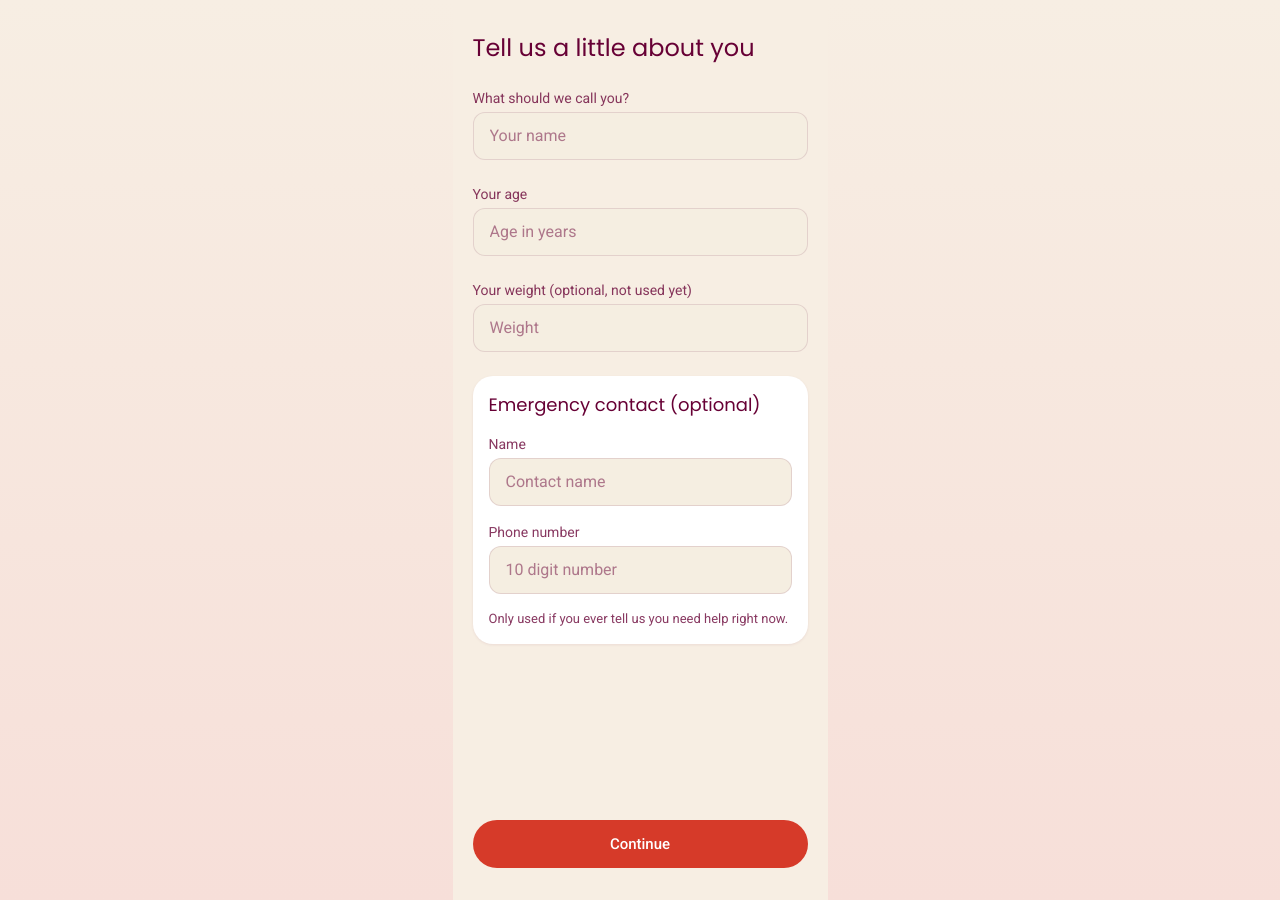
Test: OnboardingForm › starts on About You and requires a name to continue
Click the button "Continue".
click(640, 844)  # box 472,820 -> 808,868
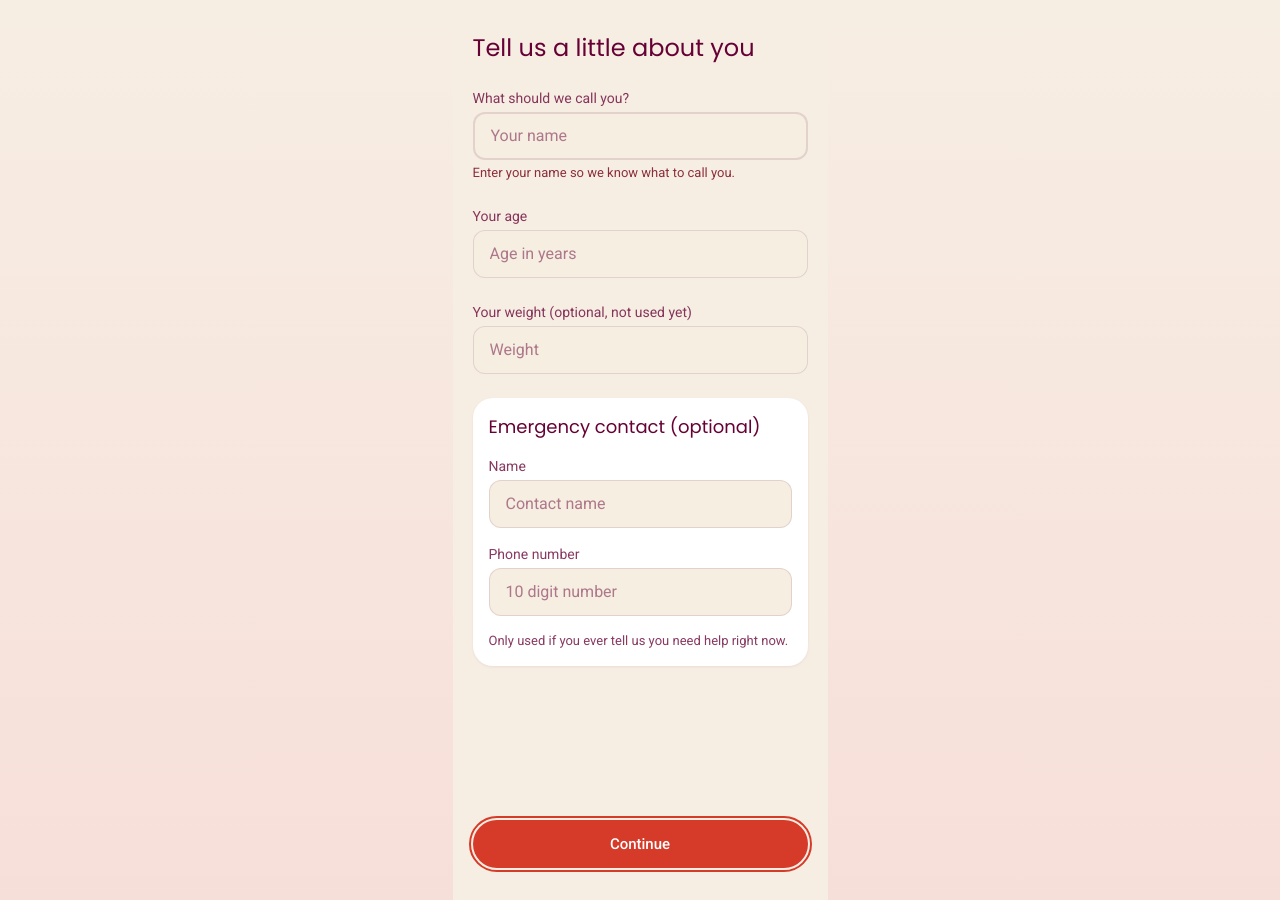
Expected: the field labelled "What should we call you?" is shown, 472,112 -> 808,160
Expected: the text "Enter your name so we know what to call you." is shown, 472,165 -> 735,180
